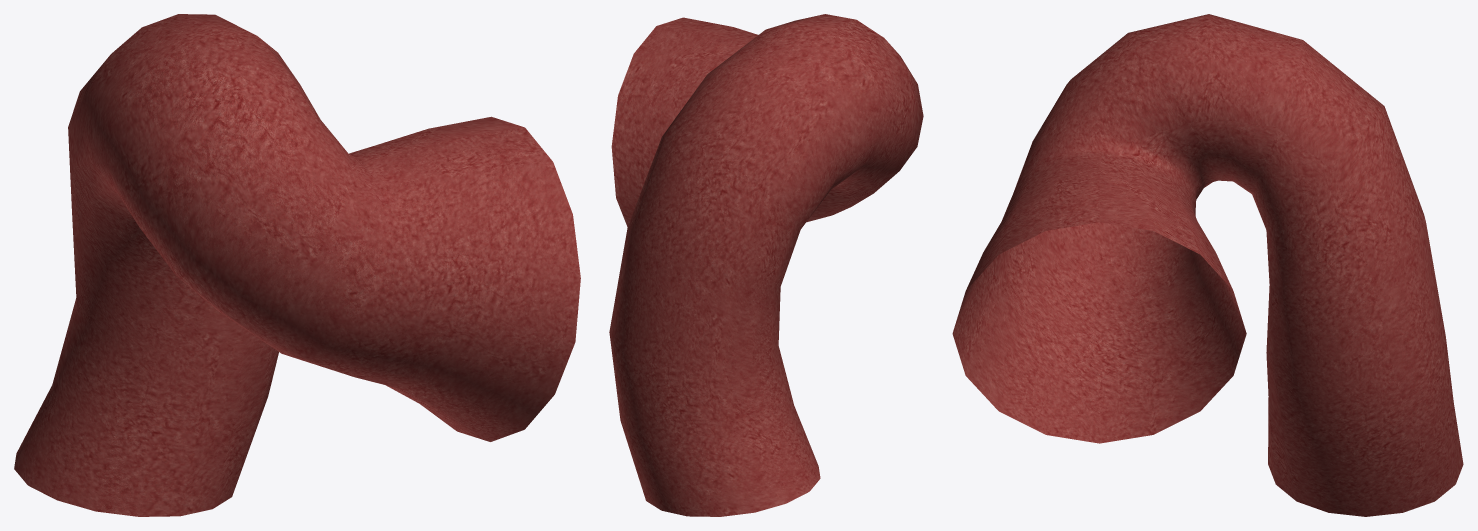
Rendered from Stomach6.fbx.
3 renders of one model, left to right at view 1: azimuth 30°, elevation 25°; view 2: azimuth 150°, elevation 25°; view 3: azimuth 270°, elevation 25°, orthographic. The views are drawn at different scales.
Visible parts, largest first — view 1: polySurface1986; view 2: polySurface1986; view 3: polySurface1986.
Part boxes in pixels (<box>): polySurface1986: <box>14,14,580,516</box>; polySurface1986: <box>609,14,923,516</box>; polySurface1986: <box>952,14,1463,516</box>.
Size of the model in its own units: 5.68 by 8.02 by 8.24.
